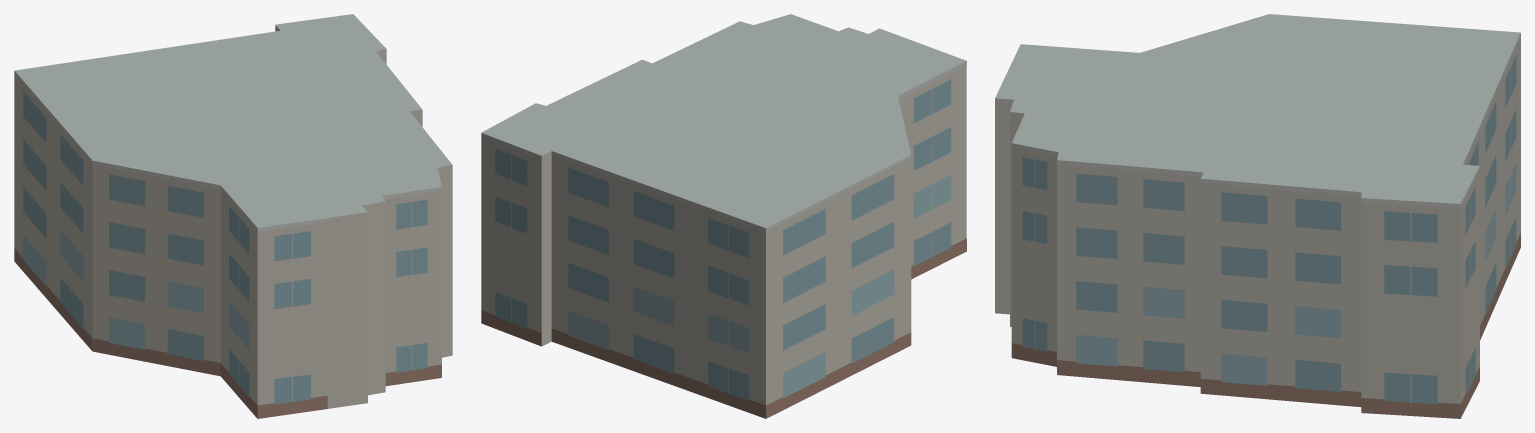
The model's file is survey-upis-32805096.glb.
The picture shows the model from 3 angles, left to right: view 1: azimuth 30°, elevation 25°; view 2: azimuth 150°, elevation 25°; view 3: azimuth 270°, elevation 25°; orthographic projection. The views are drawn at different scales.
Parts seen in each view (by area): view 1: survey-upis-32805096.tmp; view 2: survey-upis-32805096.tmp; view 3: survey-upis-32805096.tmp.
Boxes of the visible parts, box(x1,y1,x2,y2) form: survey-upis-32805096.tmp: box(14, 14, 452, 418); survey-upis-32805096.tmp: box(481, 14, 966, 418); survey-upis-32805096.tmp: box(995, 14, 1520, 418).
Bounding box in the file's own units: 23.32 × 12.3 × 27.27.
